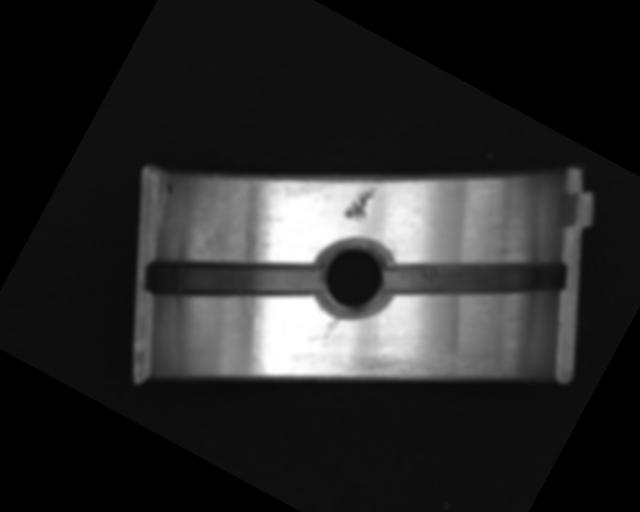blot: (158, 175, 179, 195)
bruise: (341, 180, 378, 225)
gap: (377, 192, 571, 363), (140, 200, 326, 360)
hole: (302, 225, 408, 330)
nick: (231, 313, 289, 377), (320, 314, 340, 341)
scratch: (342, 298, 508, 441)
